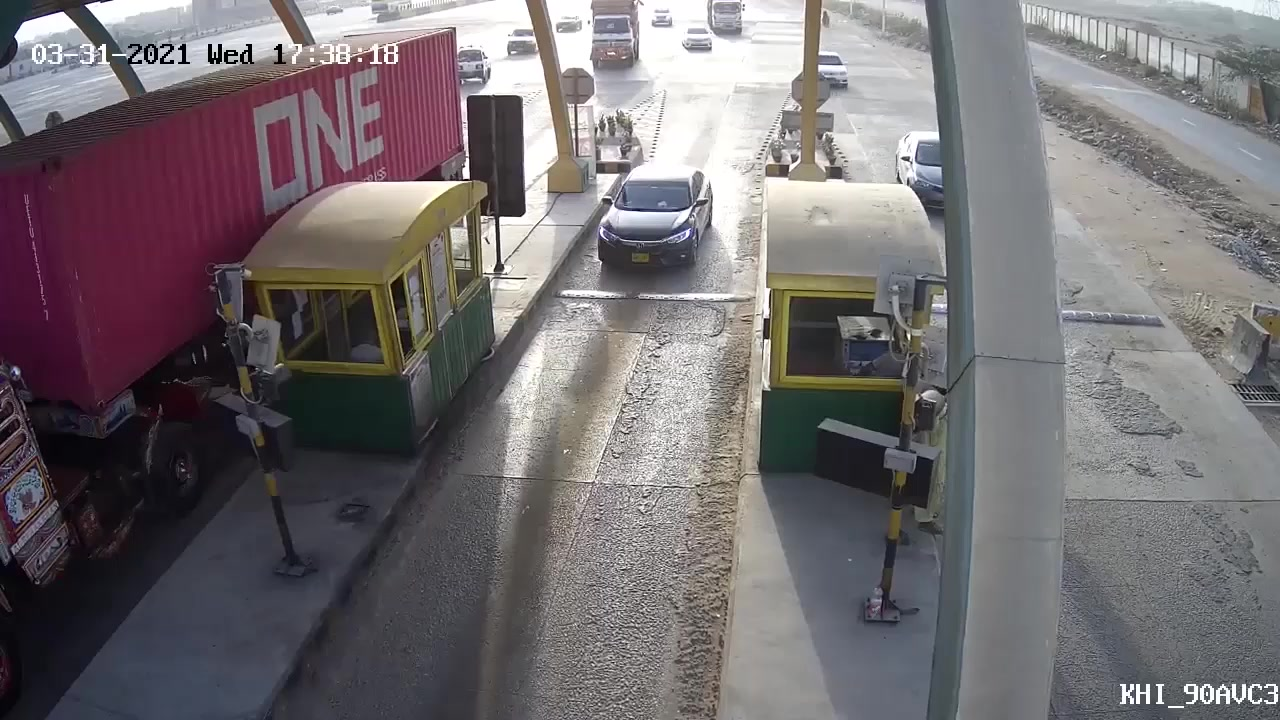F1: (591, 157, 718, 281)
